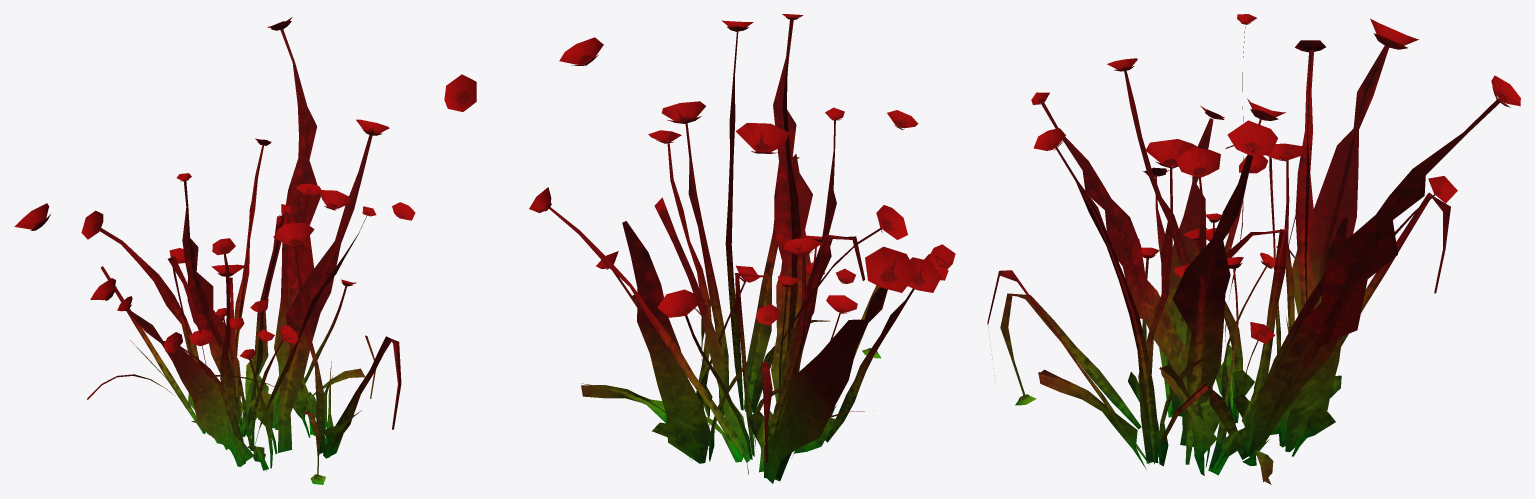
Rendered from White Everlasting_LOD1_Var2_ucvobbbia.glb.
The picture shows the model from 3 angles, left to right: view 1: azimuth 30°, elevation 25°; view 2: azimuth 150°, elevation 25°; view 3: azimuth 270°, elevation 25°; orthographic projection. The views are drawn at different scales.
Visible parts, largest first — view 1: _4419_Var2_LOD1; view 2: _4419_Var2_LOD1; view 3: _4419_Var2_LOD1.
Part boxes in pixels (x1,y1,x2,y2): _4419_Var2_LOD1: [14, 17, 415, 484]; _4419_Var2_LOD1: [444, 14, 955, 483]; _4419_Var2_LOD1: [987, 14, 1520, 484].
Bounding box in the file's own units: 0.647 × 0.6437 × 0.6974.
Materials: 1 (1 with a texture image).
